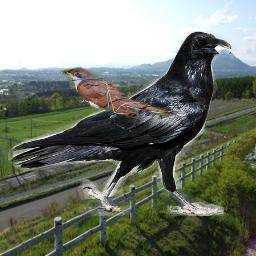Crow: (8, 31, 238, 216)
Cuckoo: (59, 65, 177, 122)
